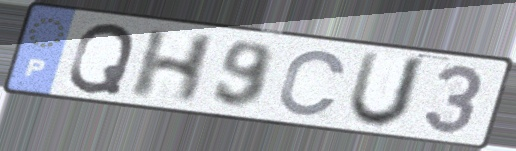3: (420, 62, 485, 137)
9: (210, 39, 274, 112)
C: (275, 48, 350, 119)
H: (125, 28, 221, 106)
Q: (65, 21, 139, 96)
U: (343, 48, 431, 131)
